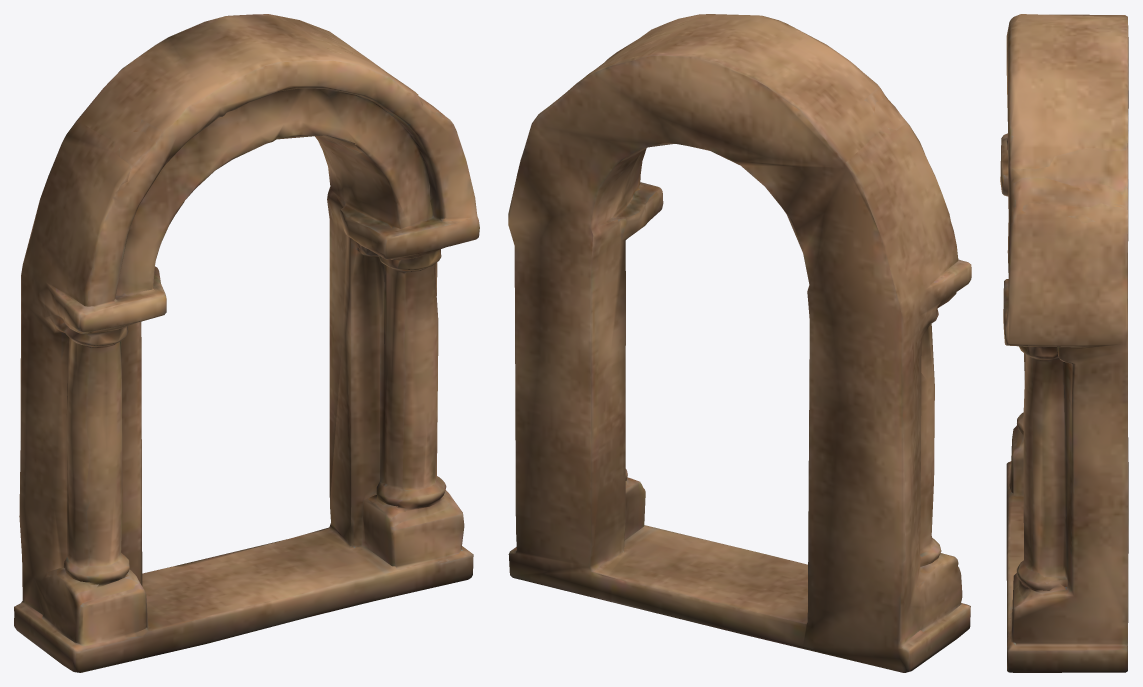
Rendered from weathered-sandstone-arched-doorway-v001.glb.
3 renders of one model, left to right at view 1: azimuth 30°, elevation 25°; view 2: azimuth 150°, elevation 25°; view 3: azimuth 270°, elevation 25°, orthographic. The views are drawn at different scales.
Visible parts, largest first — view 1: weathered-sandstone-arched-doorway; view 2: weathered-sandstone-arched-doorway; view 3: weathered-sandstone-arched-doorway.
Part boxes in pixels (left/top/right/bottom): weathered-sandstone-arched-doorway: left=14, top=14, right=479, bottom=672; weathered-sandstone-arched-doorway: left=508, top=14, right=971, bottom=672; weathered-sandstone-arched-doorway: left=1000, top=14, right=1128, bottom=672.
Bounding box in the file's own units: 1.8 × 2.4 × 0.5074.
Materials: 1 (1 with a texture image).
